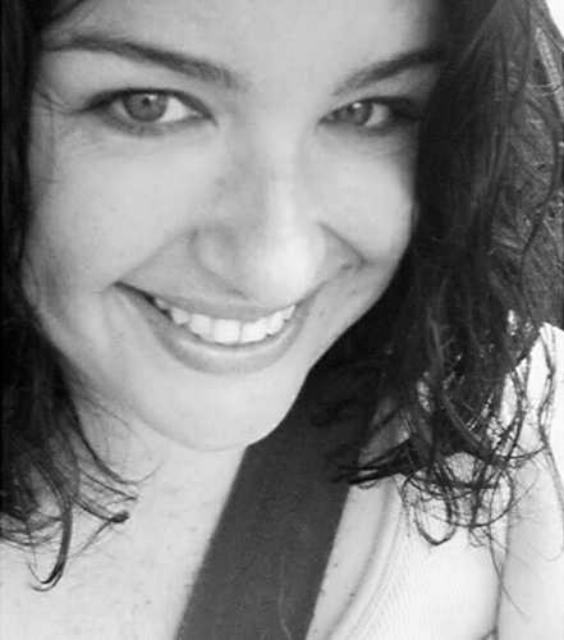SafeDriving: (55, 53, 239, 155), (295, 64, 442, 156)
Seatbelt: (164, 346, 390, 640)
